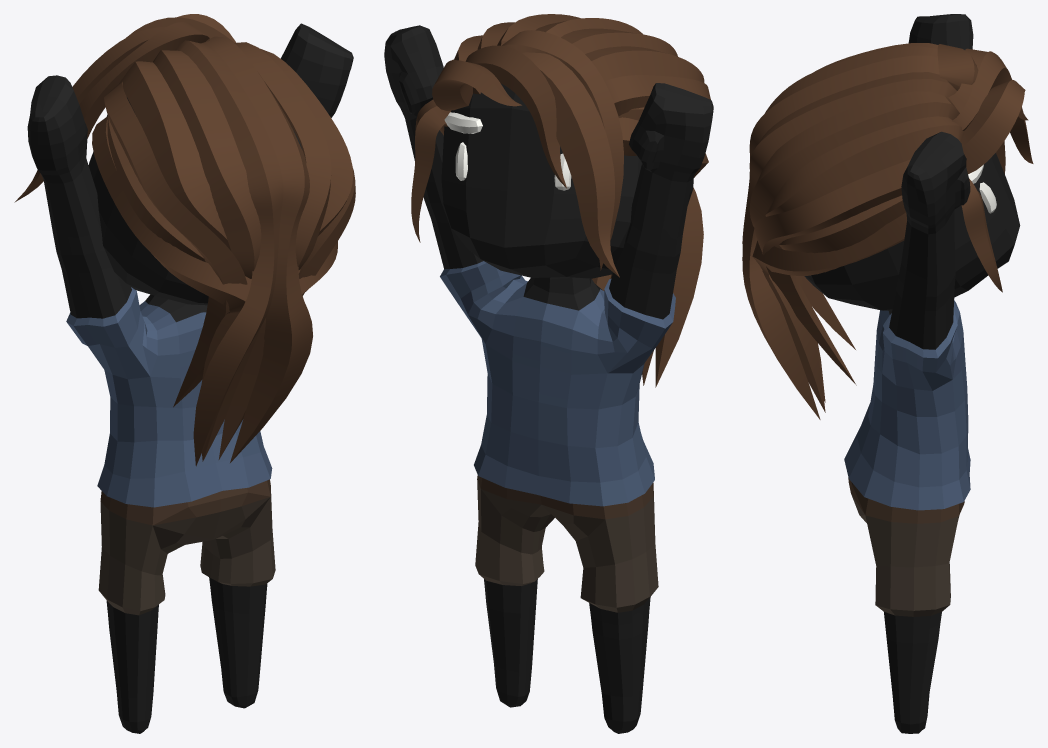
The model's file is Moun_Casual_Female_Cheer.fbx.
The picture shows the model from 3 angles, left to right: view 1: azimuth 30°, elevation 25°; view 2: azimuth 150°, elevation 25°; view 3: azimuth 270°, elevation 25°; orthographic projection. The views are drawn at different scales.
Visible parts, largest first — view 1: Moun_Casual_Female_Cheer; view 2: Moun_Casual_Female_Cheer; view 3: Moun_Casual_Female_Cheer.
Boxes of the visible parts, box(x1,y1,x2,y2) form: Moun_Casual_Female_Cheer: box(14, 14, 355, 733); Moun_Casual_Female_Cheer: box(384, 14, 713, 733); Moun_Casual_Female_Cheer: box(742, 14, 1033, 733).
Bounding box in the file's own units: 0.837 × 1.69 × 0.6765.
